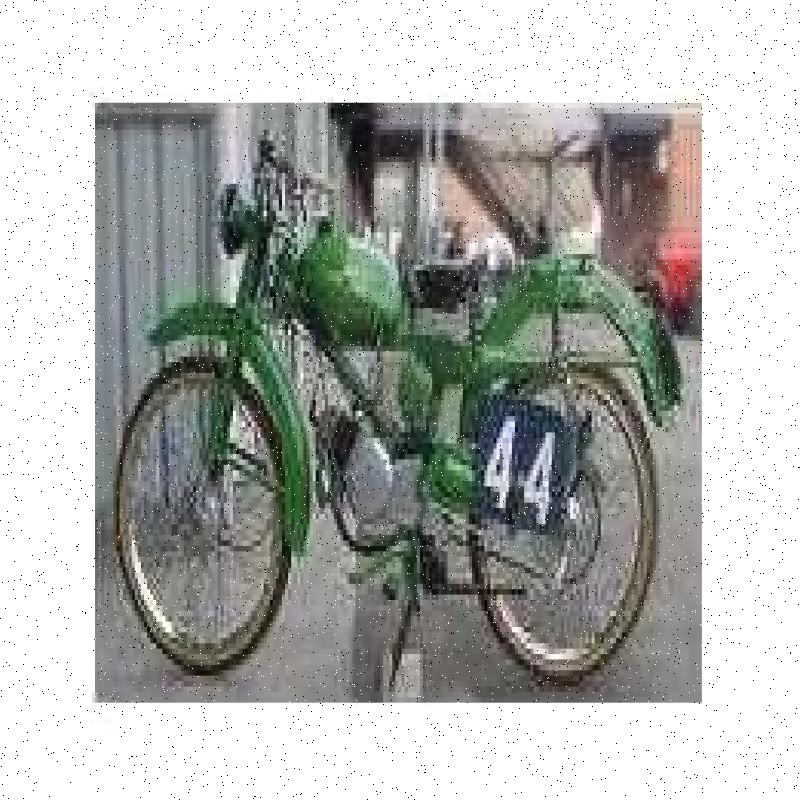bike: (107, 118, 667, 705)
